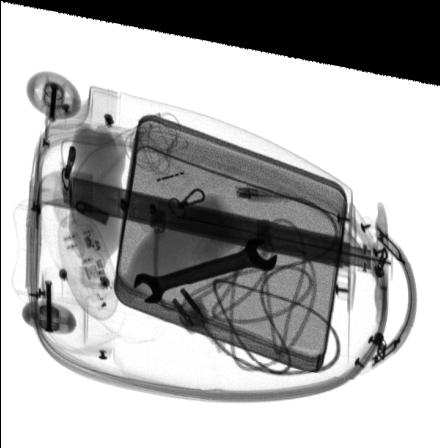Wrench: (132, 227, 277, 297)
